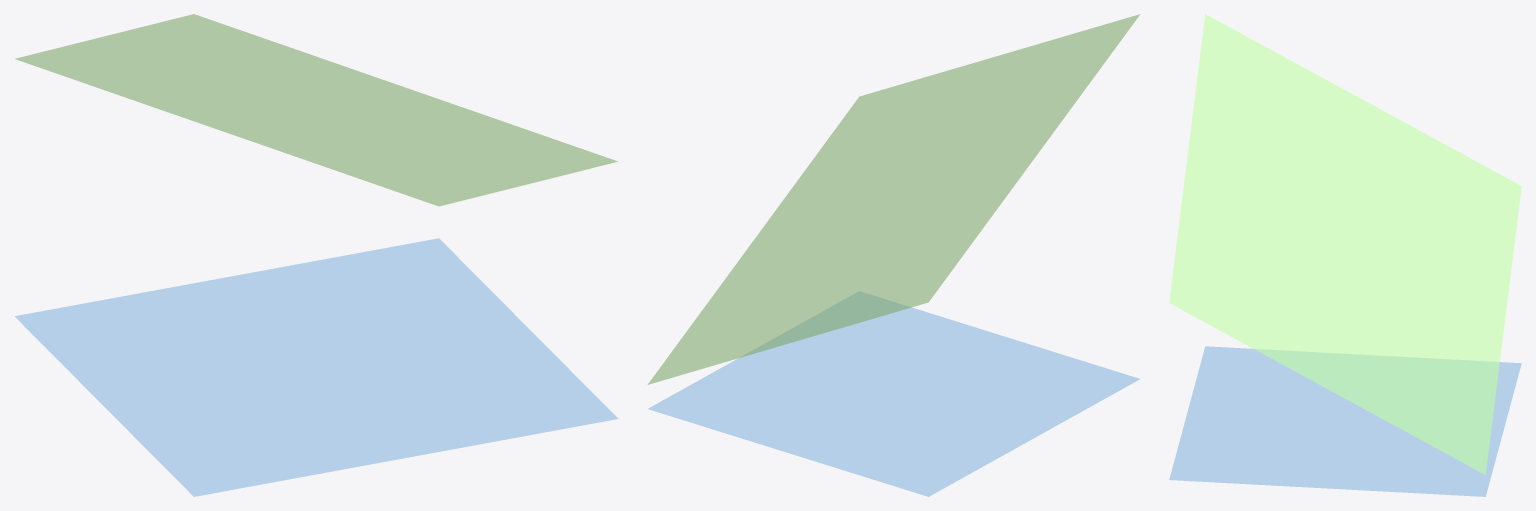
File: p_ex1_losango.glb
3 renders of one model, left to right at view 1: azimuth 30°, elevation 25°; view 2: azimuth 150°, elevation 25°; view 3: azimuth 270°, elevation 25°, orthographic. The views are drawn at different scales.
Bounding box in the file's own units: 3.56 × 3.66 × 3.52.
